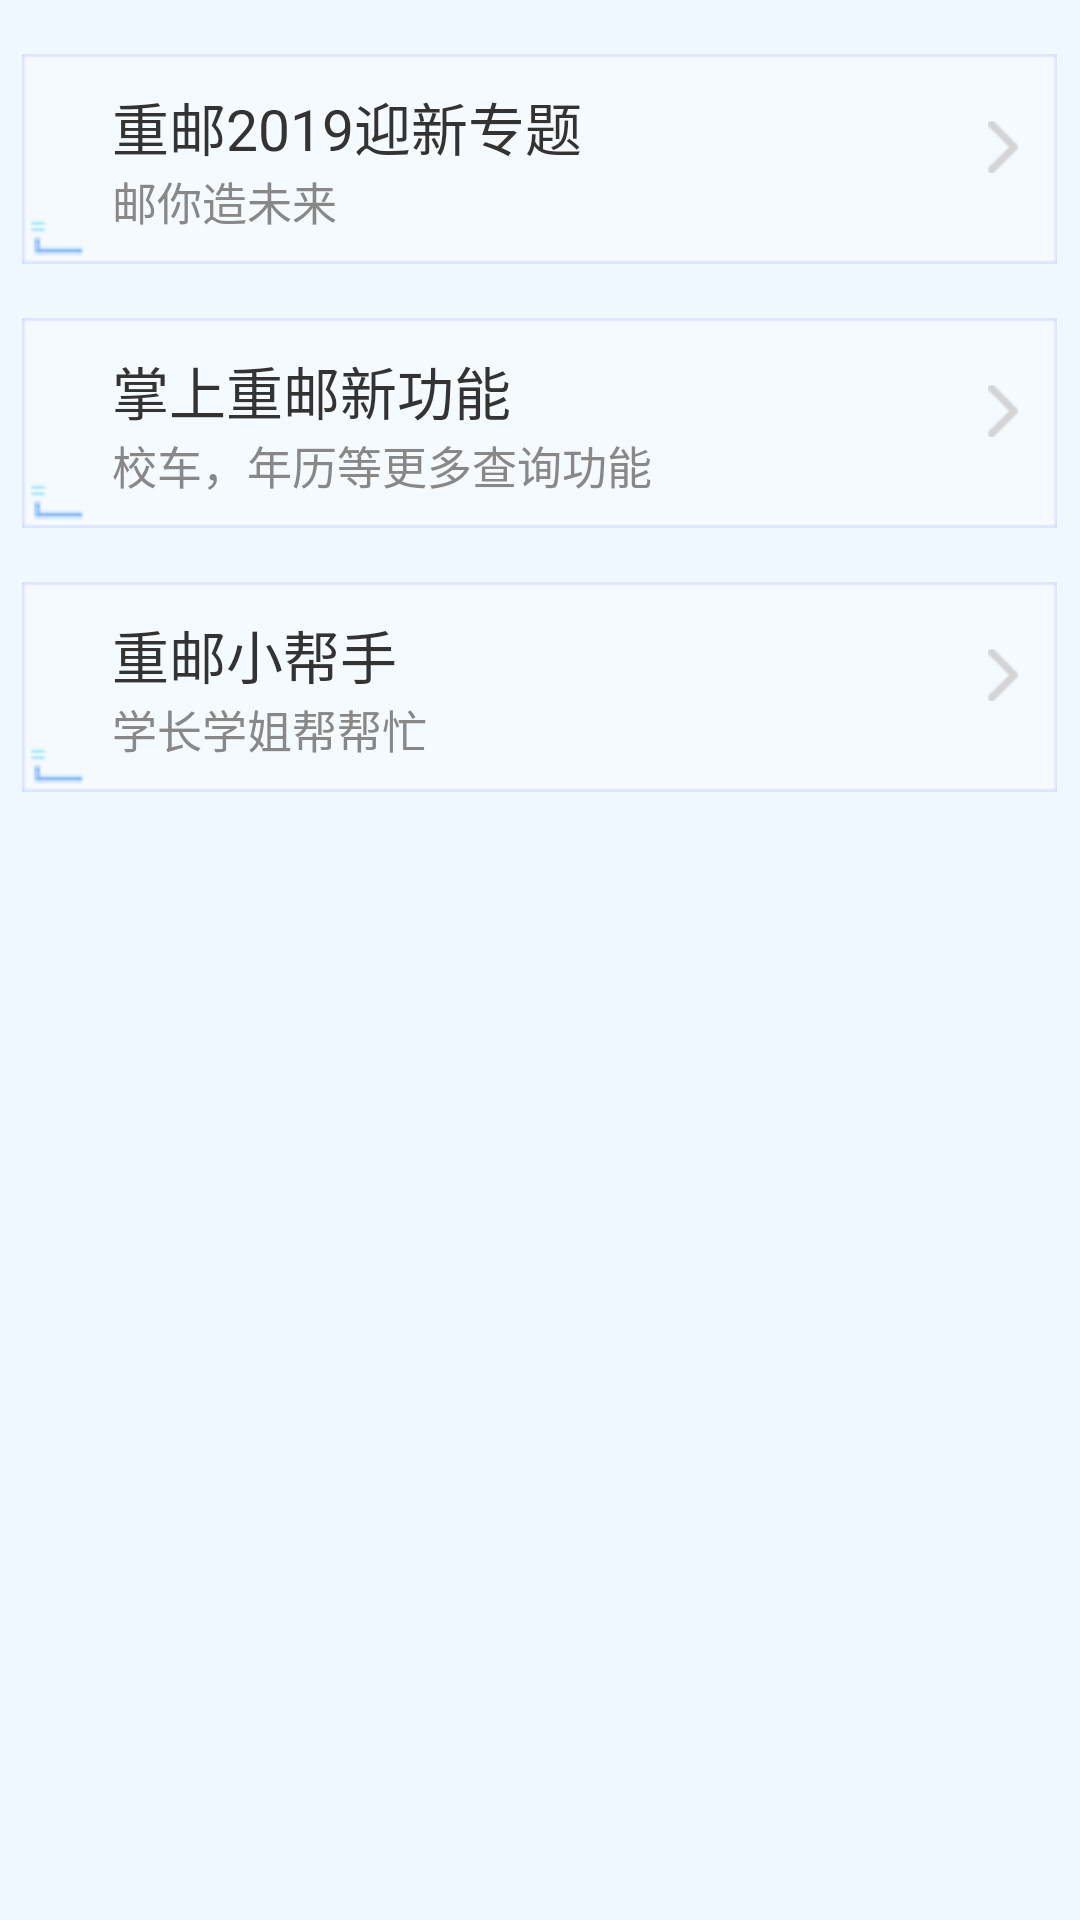

Icon bounding boxes for this 1080x1920 phone screenshot, format (left=x1, top=y1, right=x2, bottom=y2):
freshman institute arrow: (left=988, top=121, right=1018, bottom=173), (left=988, top=385, right=1018, bottom=437), (left=988, top=649, right=1018, bottom=701)
